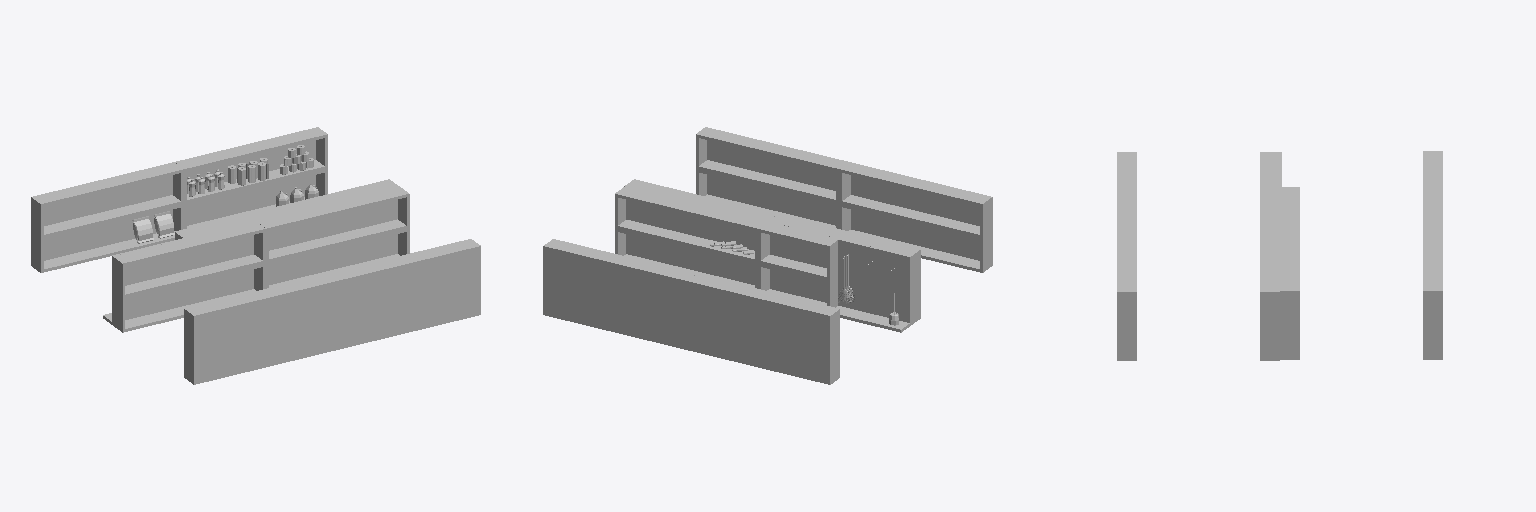
File: Aisle1_Shelves.obj
3 views of the same model, side by side, from view 1: azimuth 30°, elevation 25°; view 2: azimuth 150°, elevation 25°; view 3: azimuth 270°, elevation 25° (orthographic).
Parts seen in each view (by area): view 1: Aisle1_Shelves; view 2: Aisle1_Shelves; view 3: Aisle1_Shelves.
Boxes of the visible parts, box(x1,y1,x2,y2) form: Aisle1_Shelves: box(31, 127, 480, 384); Aisle1_Shelves: box(543, 127, 992, 384); Aisle1_Shelves: box(1117, 151, 1442, 360).
Bounding box in the file's own units: 10.29 × 2.36 × 10.08.